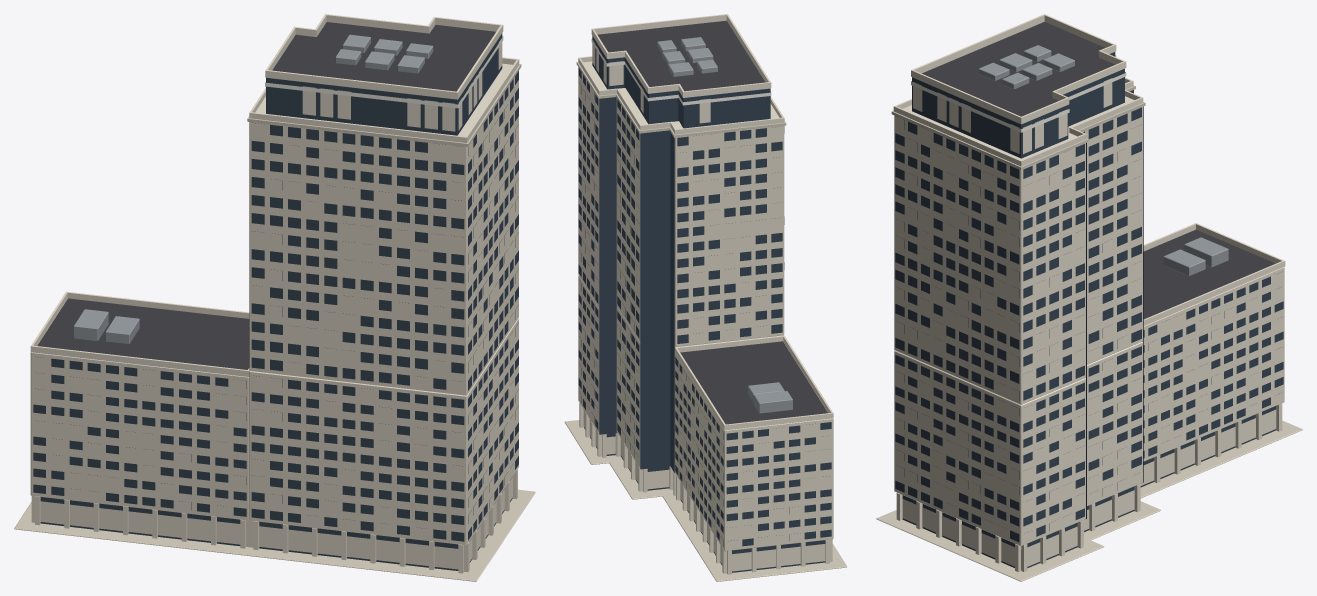
File: first-and-market-usps.glb
3 renders of one model, left to right at view 1: azimuth 30°, elevation 25°; view 2: azimuth 150°, elevation 25°; view 3: azimuth 270°, elevation 25°, orthographic. The views are drawn at different scales.
Visible parts, largest first — view 1: first-and-market-usps_body, first-and-market-usps_night_glow; view 2: first-and-market-usps_body, first-and-market-usps_night_glow; view 3: first-and-market-usps_body, first-and-market-usps_night_glow.
Boxes of the visible parts, x1=… form: first-and-market-usps_body: x1=14, y1=14, x2=535, y2=581; first-and-market-usps_night_glow: x1=33, y1=36, x2=518, y2=569; first-and-market-usps_body: x1=564, y1=14, x2=847, y2=581; first-and-market-usps_night_glow: x1=578, y1=39, x2=831, y2=571; first-and-market-usps_body: x1=876, y1=14, x2=1302, y2=581; first-and-market-usps_night_glow: x1=895, y1=55, x2=1283, y2=569.
Bounding box in the file's own units: 91.35 × 96.9 × 83.4.
